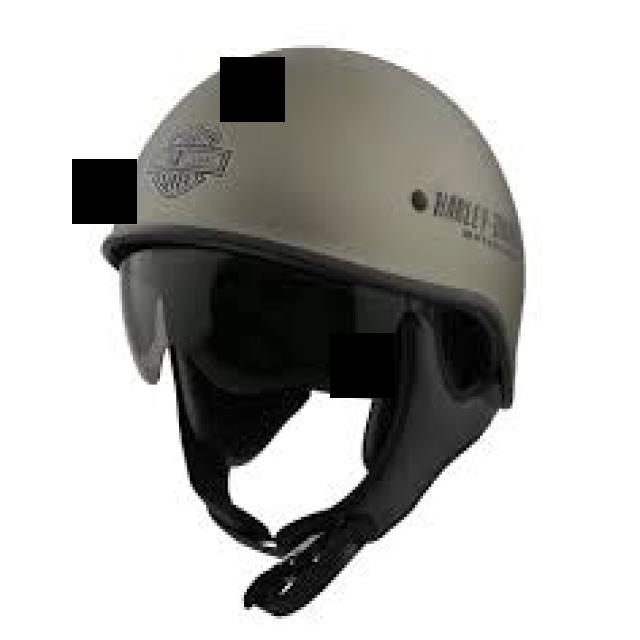Helmet: (104, 48, 524, 390)
